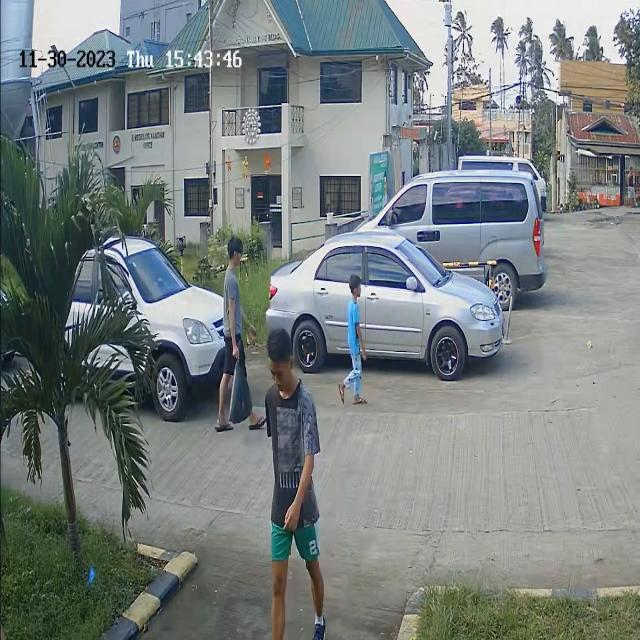person: (263, 327, 307, 487), (219, 220, 249, 337), (346, 272, 374, 384)
